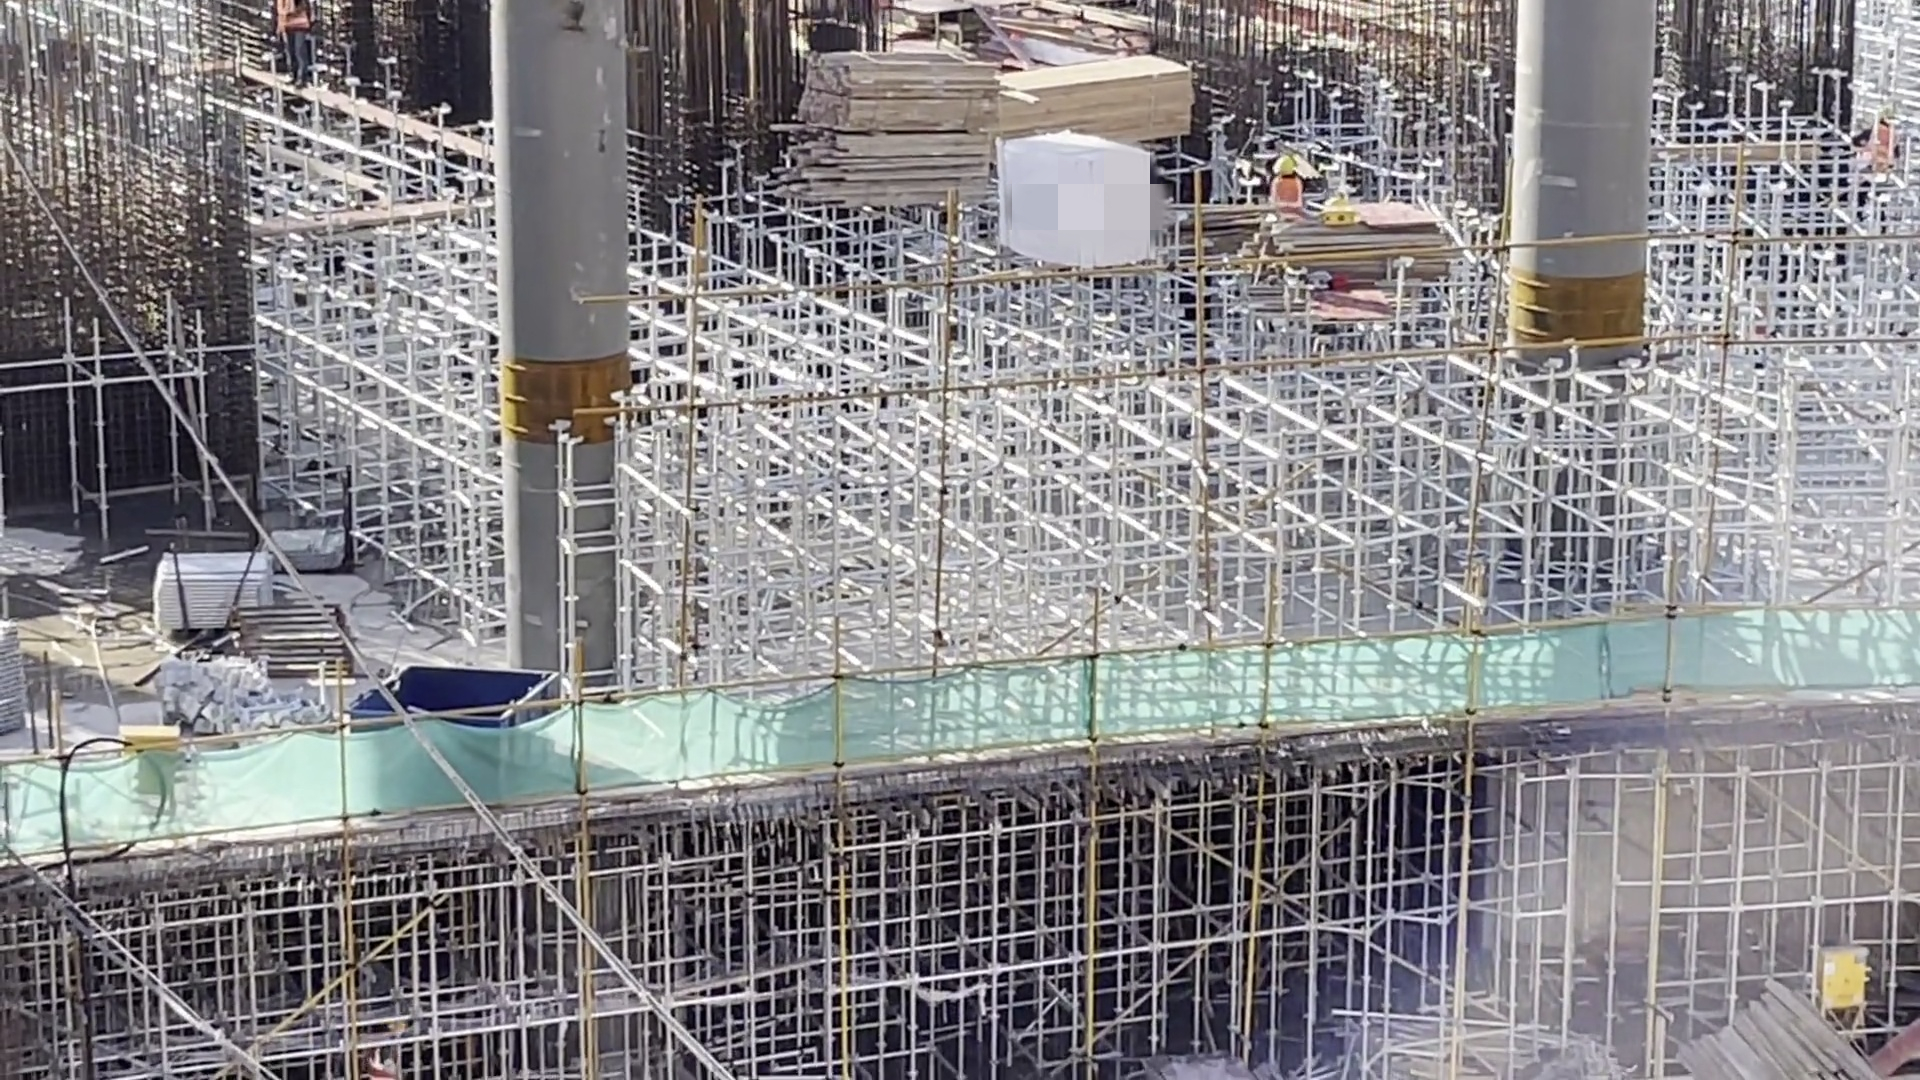board: (1264, 189, 1459, 302)
ebox: (111, 737, 193, 796), (1824, 959, 1868, 1011)
helmet: (1272, 153, 1301, 185), (393, 1016, 411, 1042), (1875, 105, 1892, 125)
hopper: (348, 661, 553, 767)
person: (1856, 107, 1893, 222), (363, 1017, 418, 1080), (1266, 151, 1311, 223), (287, 1, 323, 83)
scaffold: (168, 551, 283, 616)
vest: (1269, 182, 1309, 212), (378, 1041, 406, 1080), (1868, 139, 1888, 182), (289, 1, 307, 36)
wood: (779, 46, 1006, 197), (1024, 81, 1214, 142), (1708, 989, 1821, 1080)
